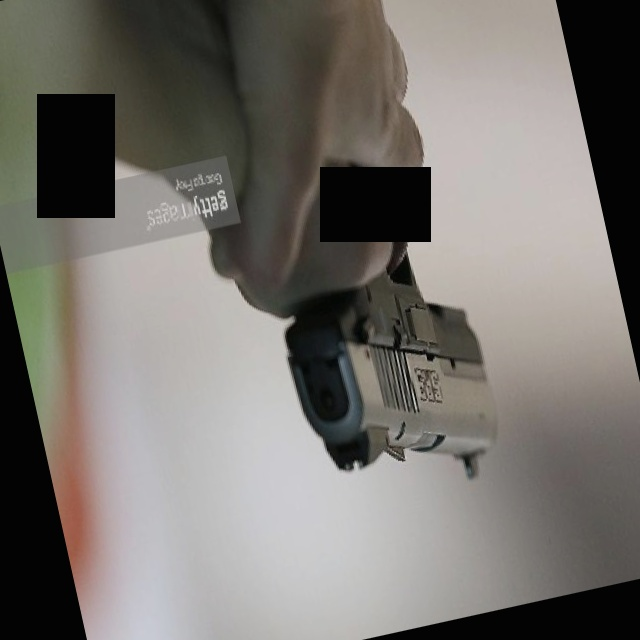gun: (270, 241, 524, 524)
